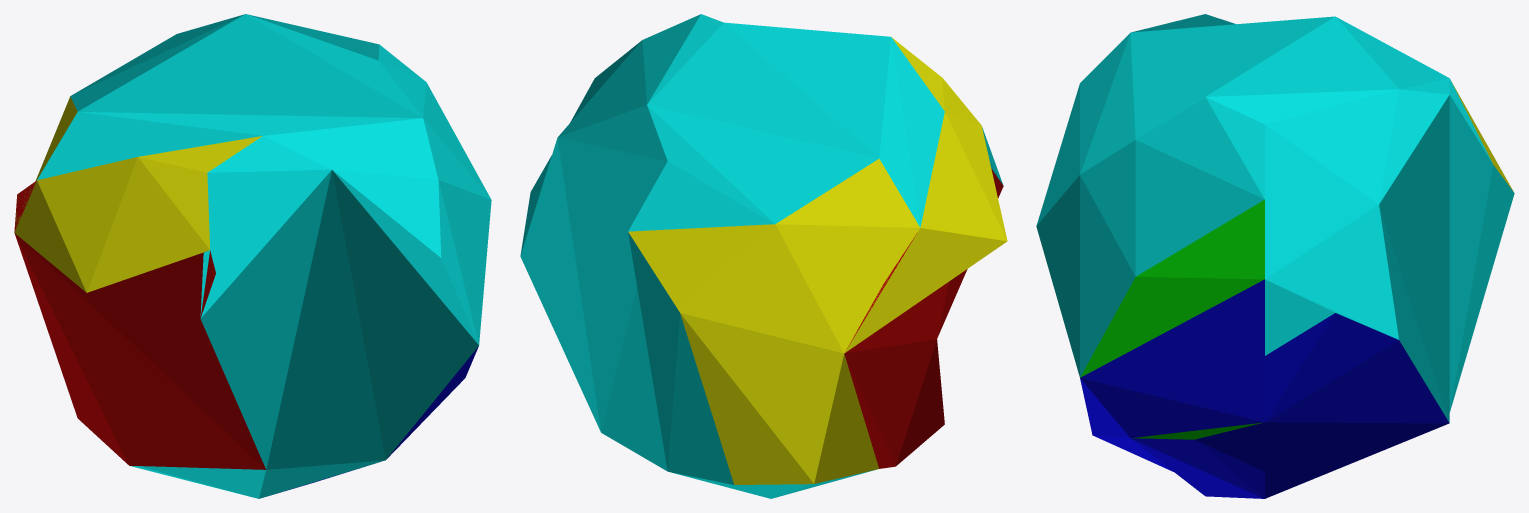
The picture shows the model from 3 angles, left to right: view 1: azimuth 30°, elevation 25°; view 2: azimuth 150°, elevation 25°; view 3: azimuth 270°, elevation 25°; orthographic projection. The views are drawn at different scales.
Size of the model in its own units: 4.96 by 4.64 by 4.77.
